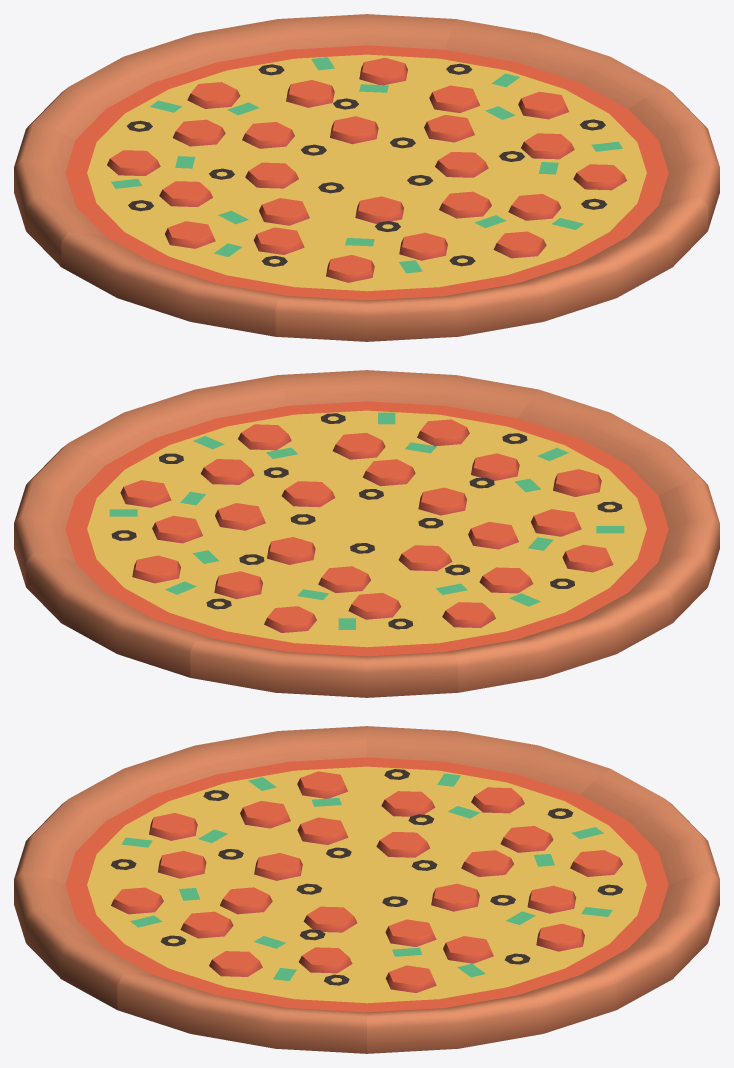
Rendered from food.pizza.glb.
The picture shows the model from 3 angles, top to bottom: view 1: azimuth 30°, elevation 25°; view 2: azimuth 150°, elevation 25°; view 3: azimuth 270°, elevation 25°; orthographic projection.
Visible parts, largest first — view 1: slice7, slice8, slice6, slice3, slice4, slice1, slice2, slice5; view 2: slice2, slice1, slice3, slice6, slice5, slice8, slice7, slice4; view 3: slice4, slice5, slice6, slice3, slice8, slice1, slice2, slice7.
Part boxes in pixels (<box>): slice7: <box>275,173,543,341</box>; slice8: <box>61,173,366,336</box>; slice6: <box>367,173,707,321</box>; slice3: <box>195,14,455,172</box>; slice4: <box>367,19,664,172</box>; slice1: <box>14,122,365,266</box>; slice2: <box>27,33,366,172</box>; slice5: <box>367,87,719,230</box>; slice2: <box>190,529,458,697</box>; slice1: <box>367,529,672,692</box>; slice3: <box>26,529,366,677</box>; slice6: <box>278,370,538,528</box>; slice5: <box>69,375,366,528</box>; slice8: <box>368,478,719,622</box>; slice7: <box>367,389,705,528</box>; slice4: <box>14,443,366,586</box>; slice4: <box>367,885,616,1053</box>; slice5: <box>117,885,366,1053</box>; slice6: <box>14,871,365,1009</box>; slice3: <box>368,871,719,1009</box>; slice8: <box>124,726,366,884</box>; slice1: <box>367,726,609,884</box>; slice2: <box>367,769,719,884</box>; slice7: <box>14,769,366,884</box>.
Bounding box in the file's own units: 0.25 × 0.0129 × 0.25.
1 material, 1 textured.
